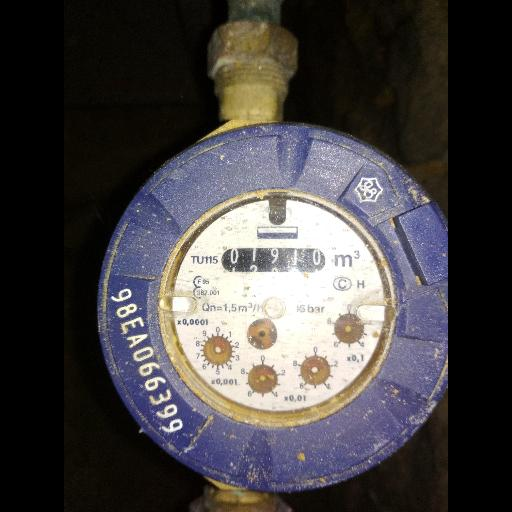0: (229, 248, 241, 272), (313, 249, 322, 274)
1: (249, 248, 262, 272), (290, 248, 301, 273)
9: (269, 248, 281, 273)
border_water_meter_number: (221, 247, 326, 273)
